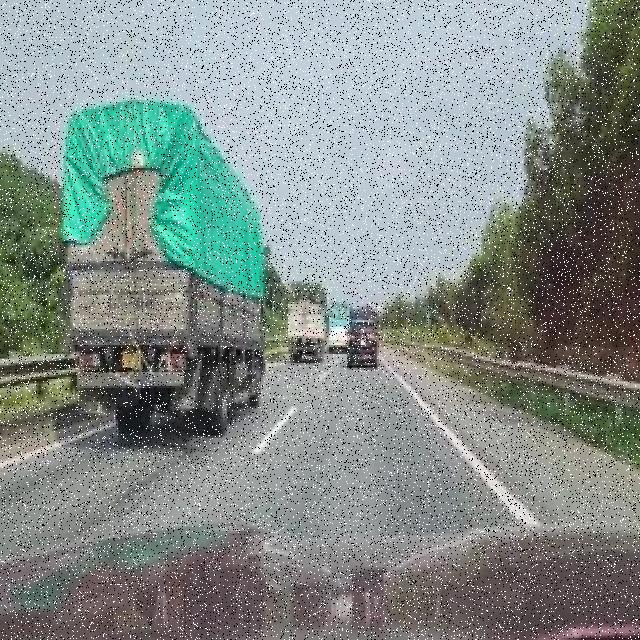clear-road: (0, 356, 517, 563), (384, 349, 640, 533)
